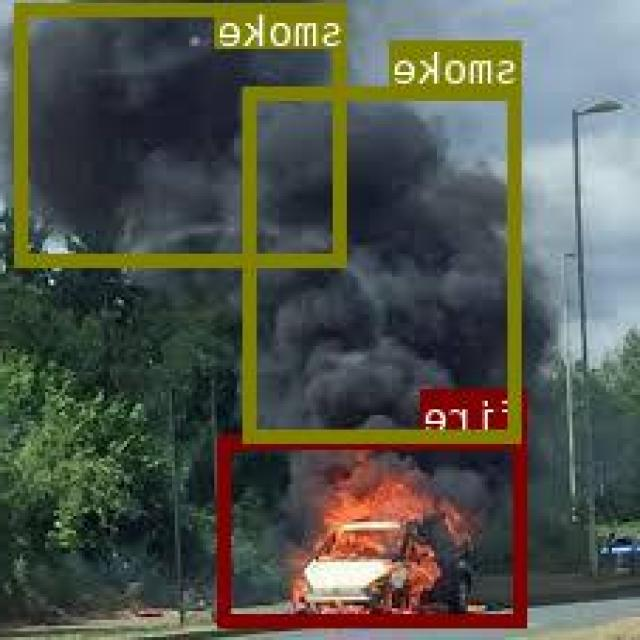fire: (222, 433, 528, 623)
smoke: (246, 86, 523, 441), (19, 2, 348, 264)
